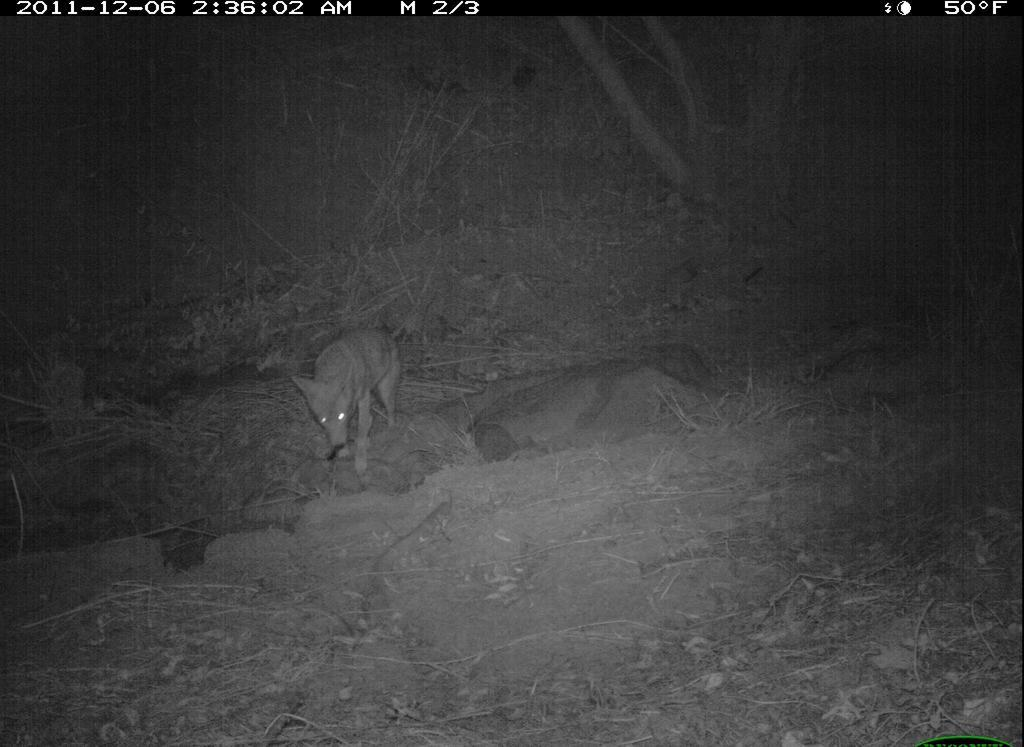coyote: (301, 318, 414, 469)
